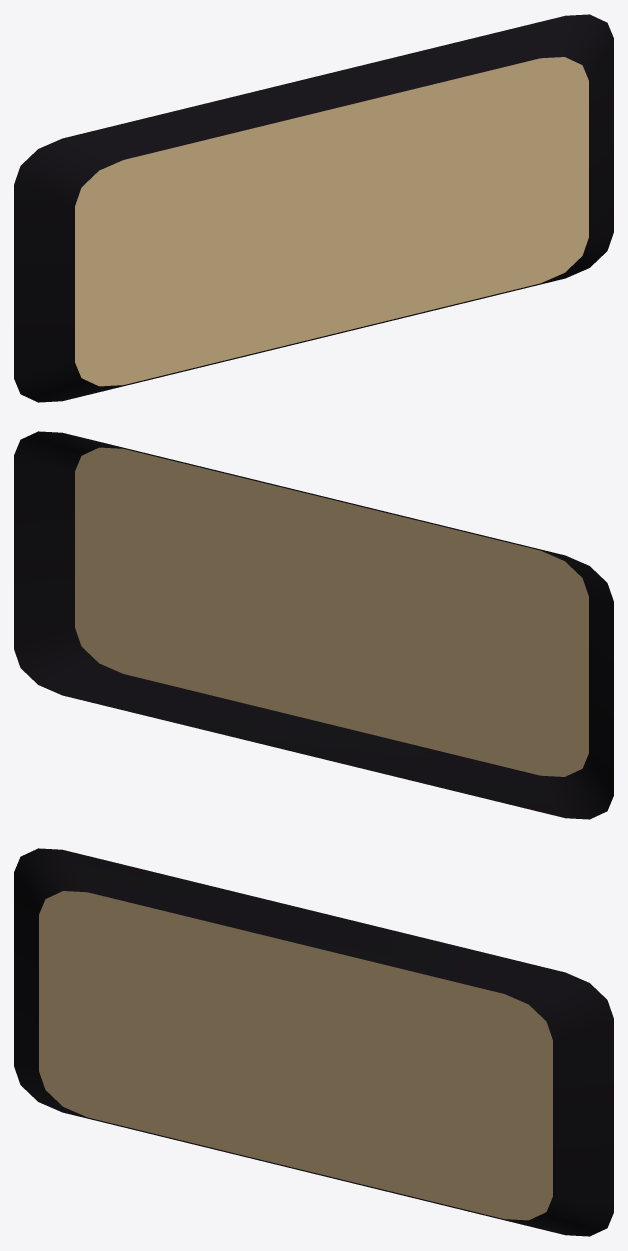
The model's file is SM_ElevatorPanel.fbx.
3 renders of one model, top to bottom at view 1: azimuth 30°, elevation 25°; view 2: azimuth 150°, elevation 25°; view 3: azimuth 330°, elevation 25°, orthographic.
Parts seen in each view (by area): view 1: Top.001; view 2: Top.001; view 3: Top.001.
Boxes of the visible parts, x1,y1,x2,y2 form: Top.001: (14,14,613,402); Top.001: (14,431,613,819); Top.001: (14,848,613,1236).
Bounding box in the file's own units: 0.0384 × 0.0161 × 0.002.
